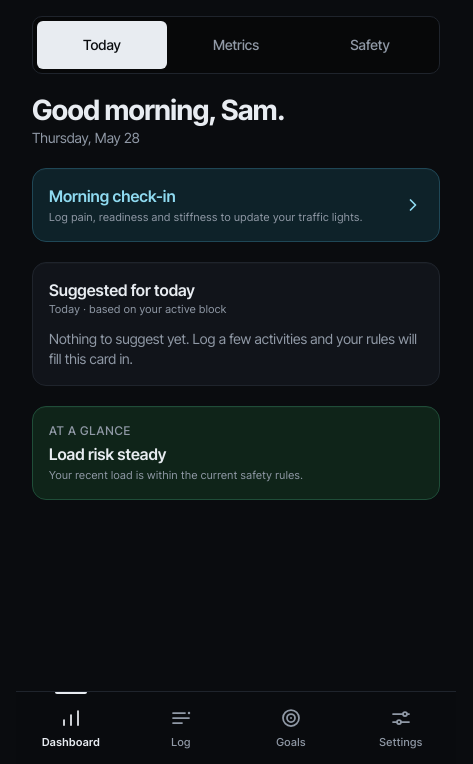
Test: App — S2.1 bottom inset layout › Goals tab + Big goal uses AppShell inset, not duplicate footer padding
What coordinates should you click on to do the following:
click the button "Goals"
I would click on:
 (291, 728)
Its box is 236,692 -> 346,763.
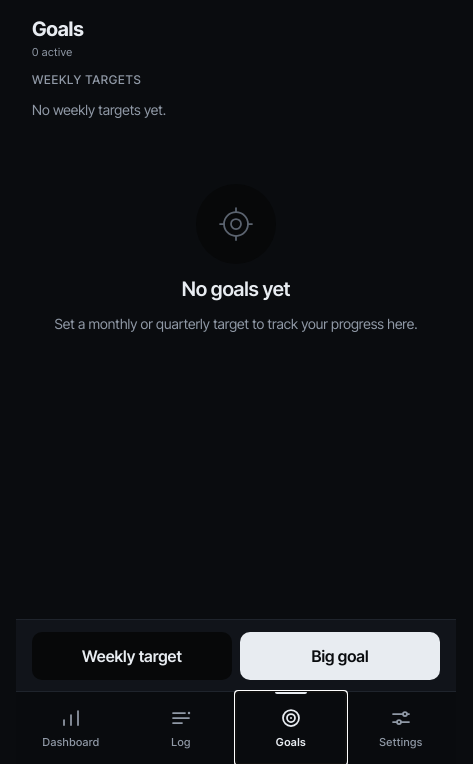
Expected: the button "Big goal" is shown, 240,632 -> 440,680
Expected: the button "Weekly target" is shown, 32,632 -> 232,680
